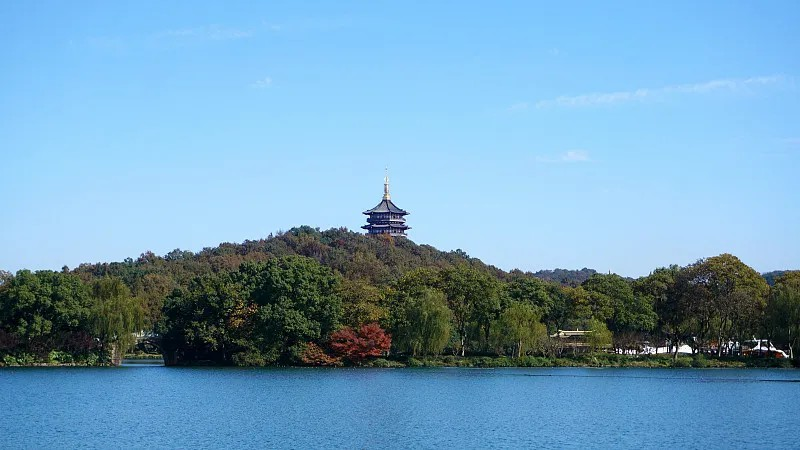Leifeng: (359, 168, 413, 242)
